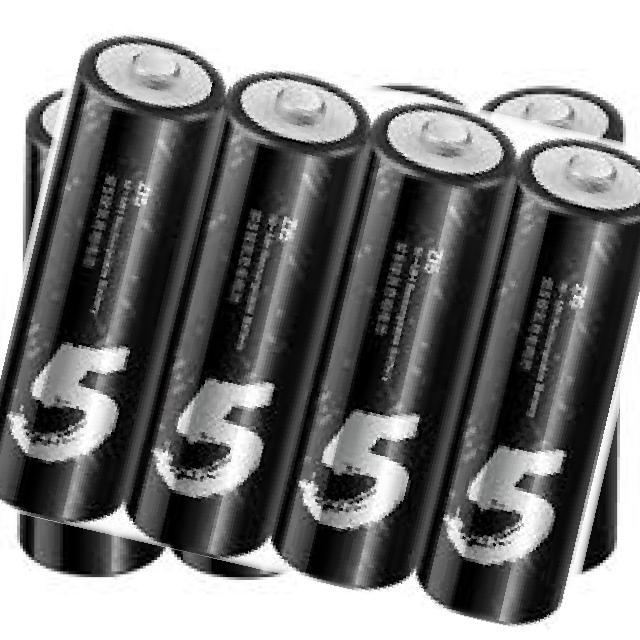Battery: (269, 98, 520, 593), (127, 66, 373, 560), (0, 30, 230, 526), (418, 136, 639, 625), (18, 90, 214, 578), (470, 87, 625, 575)
